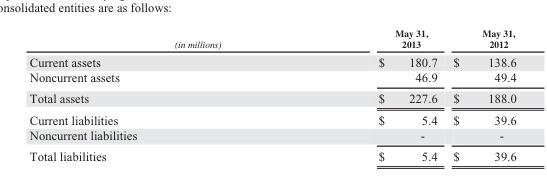table: (28, 29, 515, 163)
table column: (28, 29, 299, 163), (299, 29, 444, 163), (444, 29, 515, 163)
table column header: (28, 29, 515, 52)
table row: (28, 29, 515, 52), (28, 87, 515, 108), (28, 108, 515, 127), (28, 69, 515, 87), (28, 127, 515, 145), (28, 145, 515, 163), (28, 52, 515, 69)
